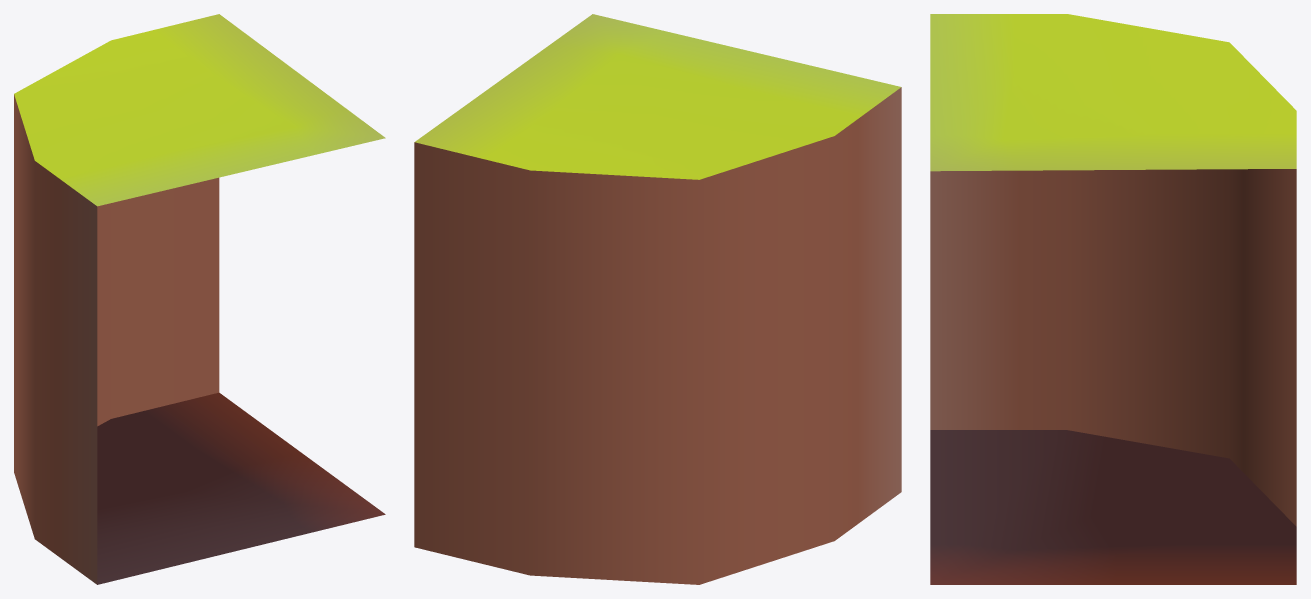
File: SeaCorner.Convex.A.glb
The picture shows the model from 3 angles, left to right: view 1: azimuth 30°, elevation 25°; view 2: azimuth 150°, elevation 25°; view 3: azimuth 270°, elevation 25°; orthographic projection. The views are drawn at different scales.
Visible parts, largest first — view 1: SeaCorner.Convex.A; view 2: SeaCorner.Convex.A; view 3: SeaCorner.Convex.A.
Boxes of the visible parts, box(x1,y1,x2,y2) form: SeaCorner.Convex.A: box(14, 14, 385, 584); SeaCorner.Convex.A: box(414, 14, 901, 584); SeaCorner.Convex.A: box(930, 14, 1296, 584).
Bounding box in the file's own units: 0.8 × 1 × 0.8.
Materials: 1 (1 with a texture image).
